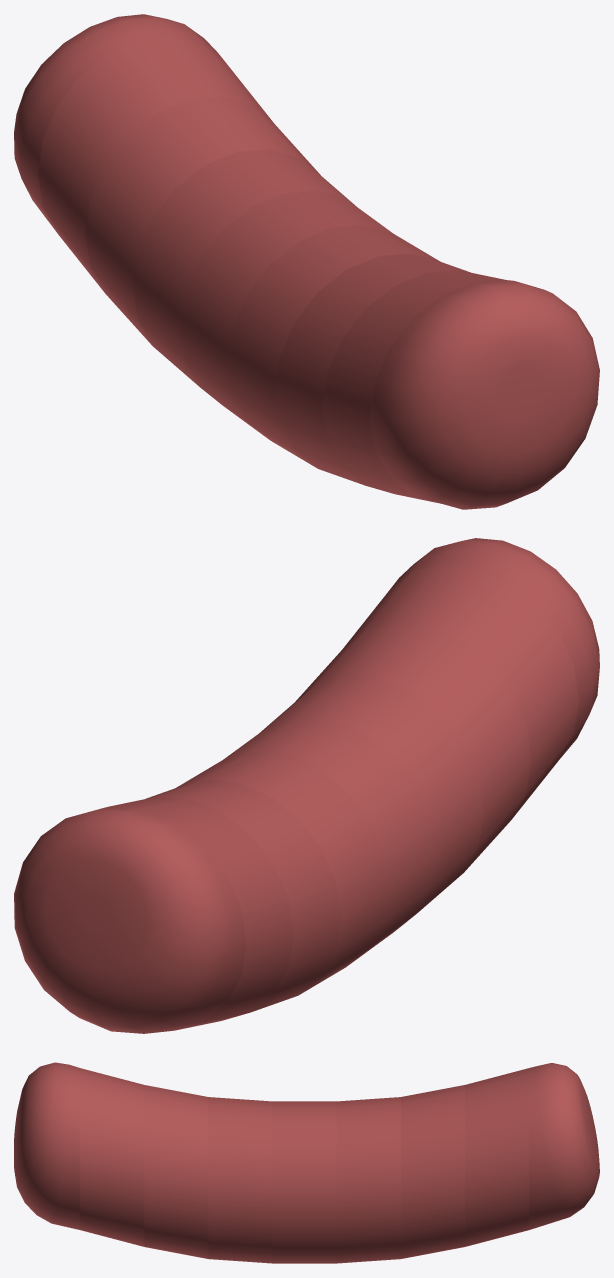
Rendered from HotDog.fbx.
The picture shows the model from 3 angles, top to bottom: view 1: azimuth 30°, elevation 25°; view 2: azimuth 150°, elevation 25°; view 3: azimuth 270°, elevation 25°; orthographic projection. The views are drawn at different scales.
Parts seen in each view (by area): view 1: polySurface9, polySurface2, polySurface3, polySurface4, polySurface5, polySurface6, polySurface7, polySurface8, polySurface1; view 2: polySurface1, polySurface8, polySurface7, polySurface6, polySurface5, polySurface4, polySurface3, polySurface2, polySurface9; view 3: polySurface5, polySurface4, polySurface6, polySurface2, polySurface7, polySurface8, polySurface3, polySurface1, polySurface9.
Part boxes in pixels (<box>): polySurface9: <box>370,280,599,509</box>; polySurface2: <box>38,37,273,292</box>; polySurface3: <box>85,96,320,344</box>; polySurface4: <box>132,149,356,386</box>; polySurface5: <box>180,190,392,438</box>; polySurface6: <box>227,225,440,467</box>; polySurface7: <box>275,253,470,485</box>; polySurface8: <box>322,270,505,503</box>; polySurface1: <box>14,14,226,232</box>; polySurface1: <box>14,806,246,1033</box>; polySurface8: <box>343,563,578,818</box>; polySurface7: <box>295,623,531,872</box>; polySurface6: <box>261,675,483,913</box>; polySurface5: <box>223,717,436,964</box>; polySurface4: <box>176,751,388,994</box>; polySurface3: <box>146,780,341,1011</box>; polySurface2: <box>109,796,293,1030</box>; polySurface9: <box>390,538,599,759</box>; polySurface5: <box>272,1101,336,1263</box>; polySurface4: <box>336,1097,400,1263</box>; polySurface6: <box>208,1097,272,1263</box>; polySurface2: <box>465,1068,529,1246</box>; polySurface7: <box>144,1085,208,1258</box>; polySurface8: <box>80,1068,144,1246</box>; polySurface3: <box>401,1085,464,1258</box>; polySurface1: <box>529,1063,599,1229</box>; polySurface9: <box>14,1062,79,1229</box>.
Size of the model in its own units: 3.64 by 4.59 by 13.03.
